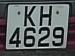2: (36, 26, 52, 49)
4: (8, 26, 23, 50)
6: (23, 27, 37, 49)
9: (51, 26, 66, 48)
H: (37, 5, 55, 27)
K: (23, 5, 39, 27)
